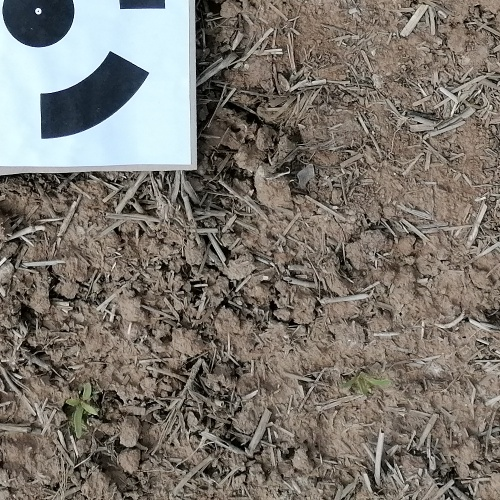beet: (343, 371, 388, 398)
